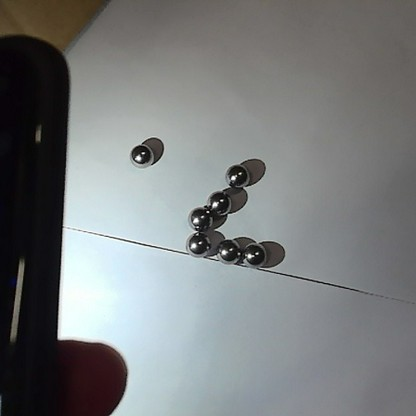ironball: (242, 239, 268, 269), (184, 231, 211, 258), (222, 163, 252, 187), (186, 206, 214, 231), (214, 238, 239, 266), (205, 191, 231, 216), (130, 143, 153, 168)
